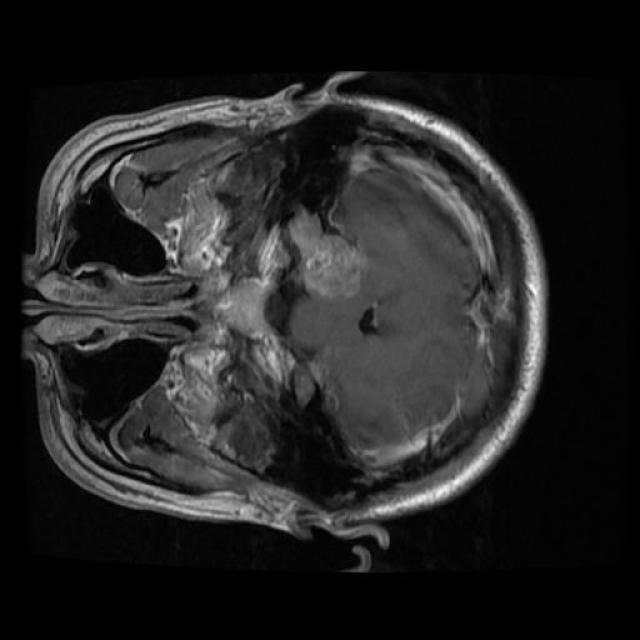Meningioma: (290, 209, 364, 300)
